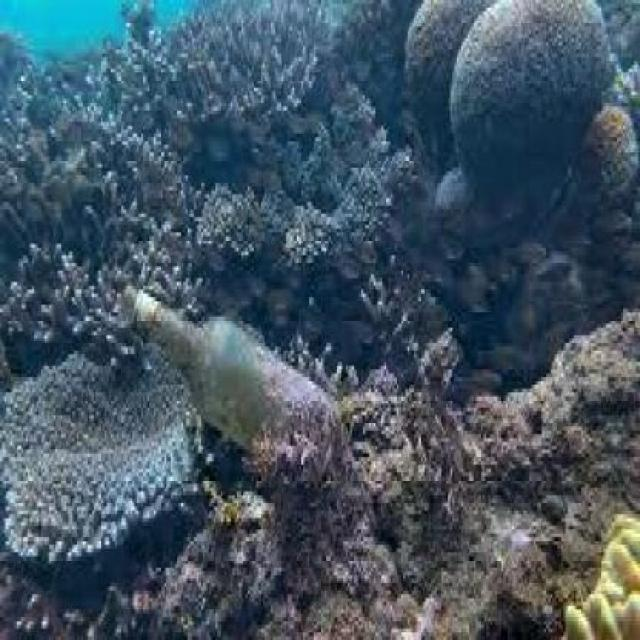gbottle: (134, 289, 337, 462)
